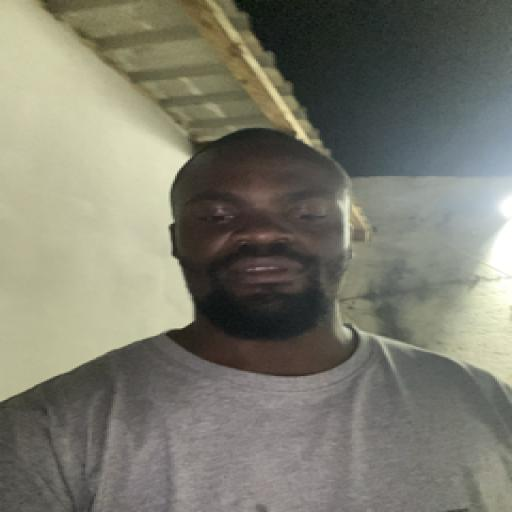JEANLUC: (166, 126, 370, 354)
